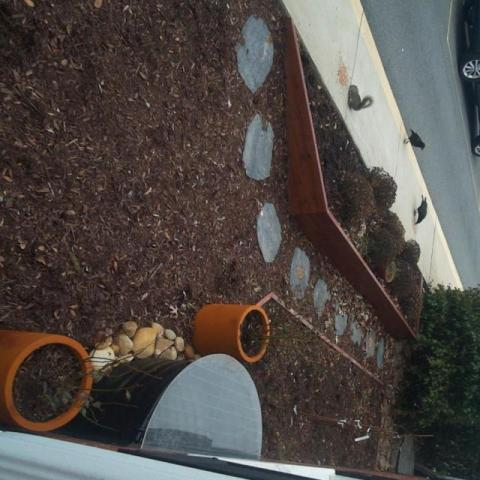bird: (403, 128, 428, 153), (413, 193, 430, 227)
small_animal: (345, 82, 376, 112)
